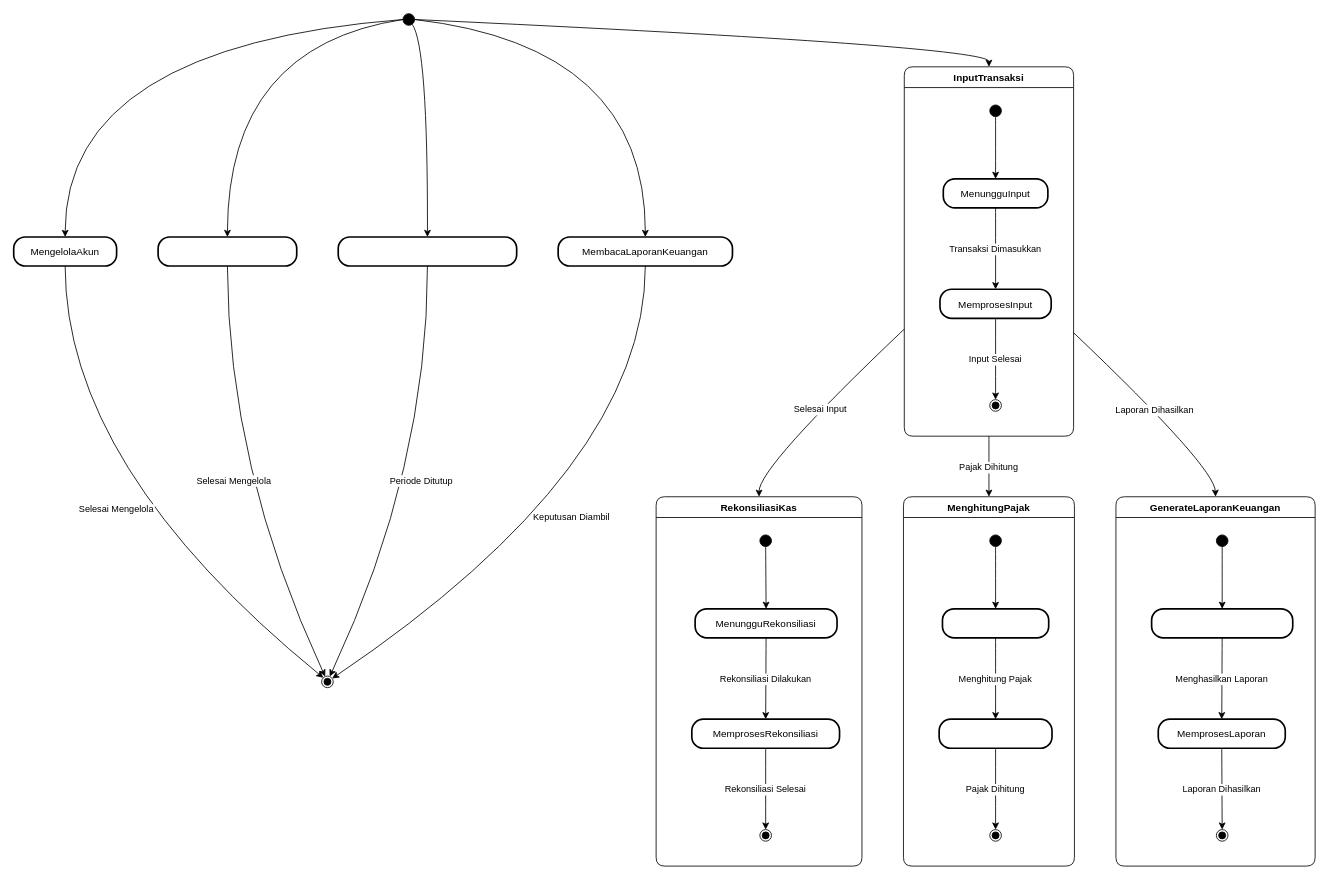
This 1329x880 diagram has some shape labels left out. Each missing label, with the centre of its shape:
"MemprosesPajak" goes at point (995, 733).
"MengelolaPersediaan" goes at point (227, 251).
"MenungguPajak" goes at point (995, 623).
"MenungguPermintaan" goes at point (1221, 623).
"PenutupanPeriodeAkuntansi" goes at point (427, 251).
